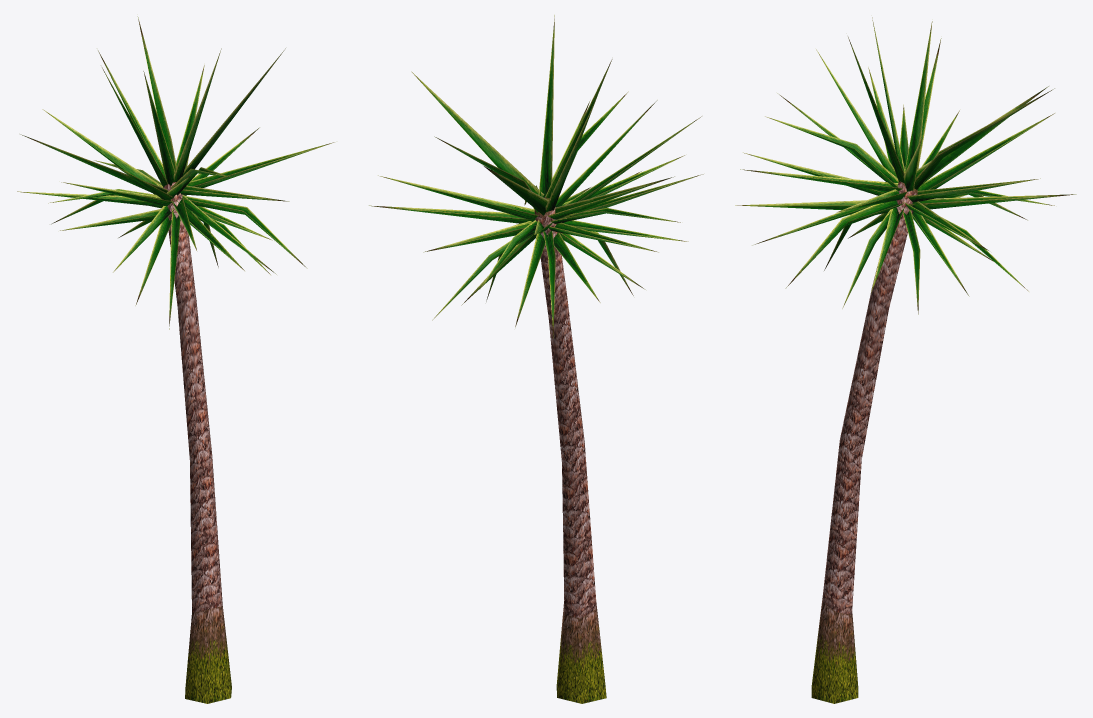
The model's file is Tree.obj.
3 views of the same model, side by side, from view 1: azimuth 30°, elevation 25°; view 2: azimuth 150°, elevation 25°; view 3: azimuth 270°, elevation 25° (orthographic). The views are drawn at different scales.
Bounding box in the file's own units: 56.51 × 128 × 59.55.
3 materials, 3 textured.
